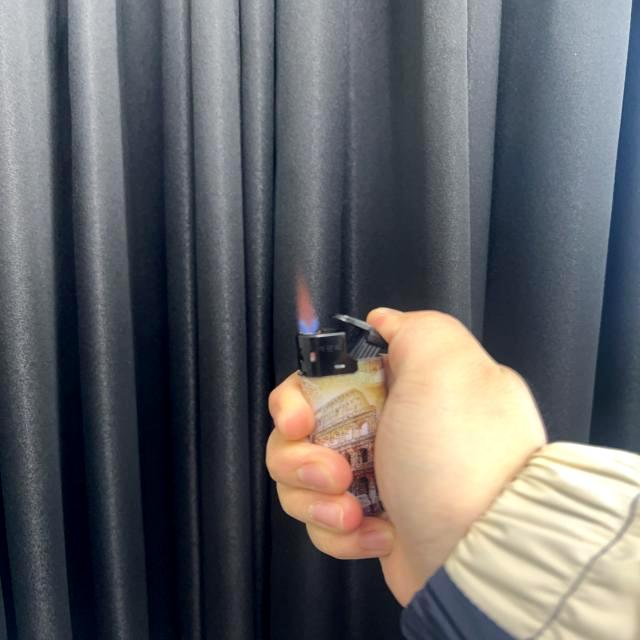fire: (292, 274, 320, 334)
